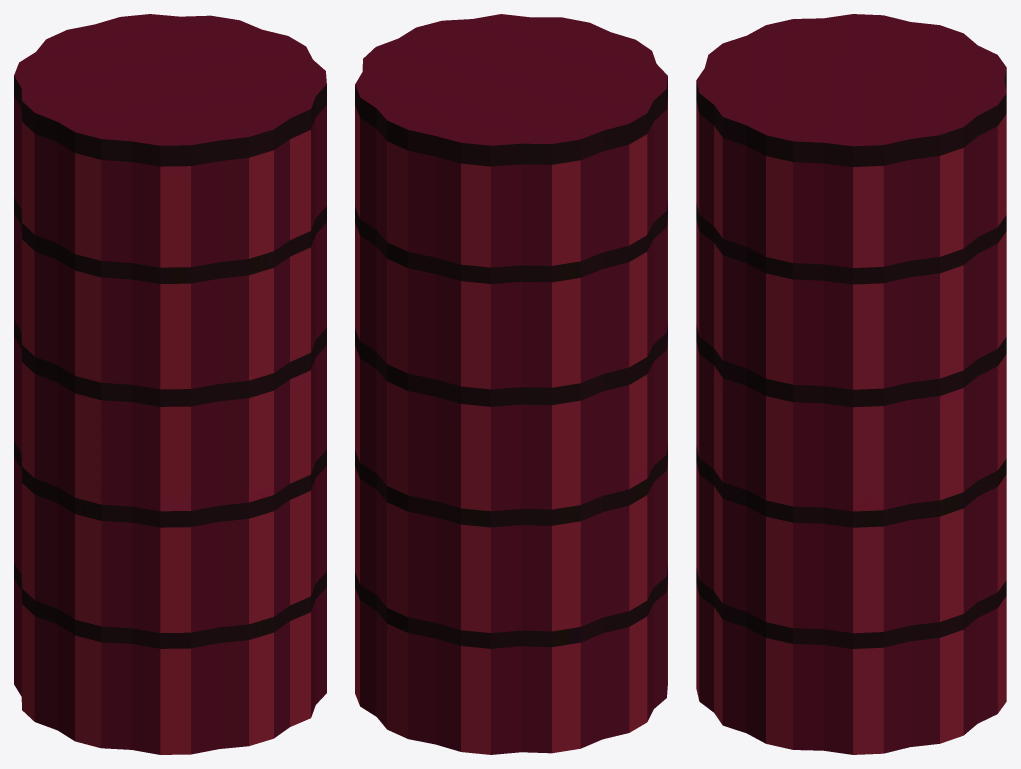
File: LaberinthPillar.fbx
3 renders of one model, left to right at view 1: azimuth 30°, elevation 25°; view 2: azimuth 150°, elevation 25°; view 3: azimuth 270°, elevation 25°, orthographic.
Parts seen in each view (by area): view 1: Cylinder.001; view 2: Cylinder.001; view 3: Cylinder.001.
Part boxes in pixels (left/top/right/bottom): Cylinder.001: left=14, top=14, right=326, bottom=754; Cylinder.001: left=355, top=14, right=667, bottom=754; Cylinder.001: left=696, top=14, right=1006, bottom=754.
Bounding box in the file's own units: 140 × 301 × 139.
